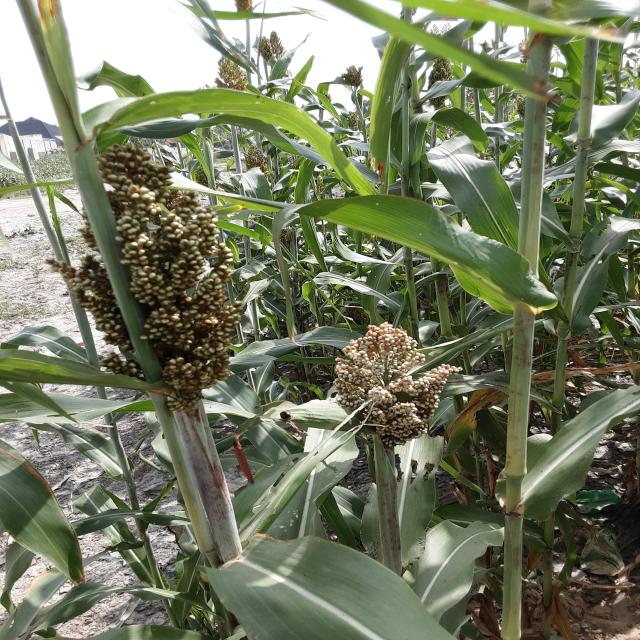UnripeSorghum: (42, 131, 264, 394), (316, 312, 475, 453)
